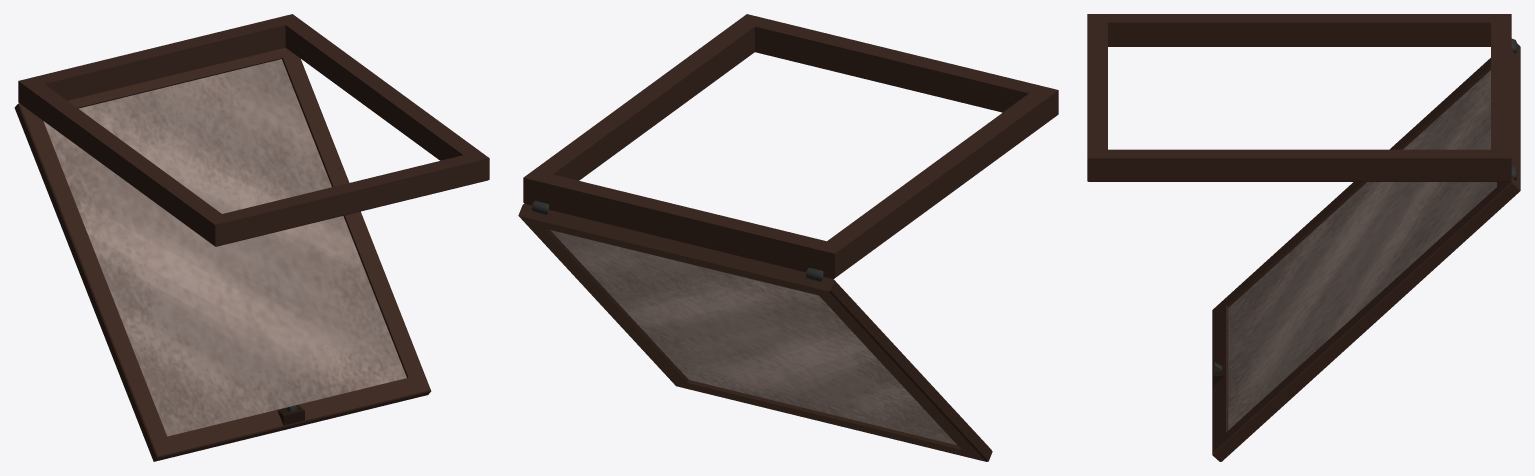
The model's file is Skylight.fbx.
The picture shows the model from 3 angles, left to right: view 1: azimuth 30°, elevation 25°; view 2: azimuth 150°, elevation 25°; view 3: azimuth 270°, elevation 25°; orthographic projection. The views are drawn at different scales.
Visible parts, largest first — view 1: Skylight; view 2: Skylight; view 3: Skylight.
Boxes of the visible parts, left/top/right/bottom form: Skylight: left=14, top=14, right=489, bottom=461; Skylight: left=518, top=14, right=1058, bottom=461; Skylight: left=1087, top=14, right=1520, bottom=461.
Size of the model in its own units: 9 by 8.84 by 11.43.
